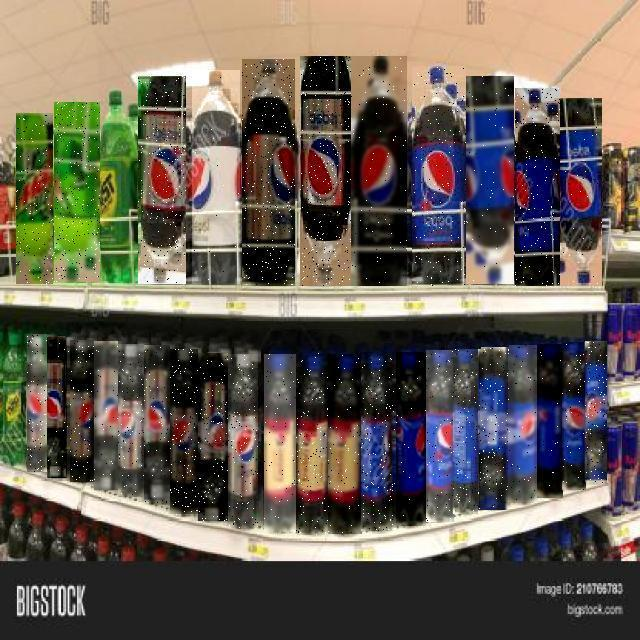Drinks: (351, 56, 407, 286), (242, 60, 295, 286), (412, 66, 466, 286), (300, 56, 351, 286), (192, 70, 240, 284), (139, 76, 187, 284), (466, 76, 514, 284), (515, 88, 560, 286), (54, 103, 100, 283), (560, 99, 602, 287), (16, 113, 53, 284), (296, 353, 330, 535), (329, 355, 363, 535), (362, 352, 396, 531), (264, 354, 296, 532), (228, 354, 258, 528), (396, 352, 426, 526), (198, 353, 228, 521), (426, 350, 454, 522), (170, 350, 198, 516), (454, 349, 482, 514), (482, 347, 510, 510), (509, 345, 537, 503), (144, 346, 170, 504), (537, 344, 563, 498), (119, 344, 145, 496), (94, 341, 118, 490), (562, 342, 586, 490), (70, 340, 95, 482), (585, 342, 607, 484), (48, 337, 70, 479), (27, 334, 47, 472)
